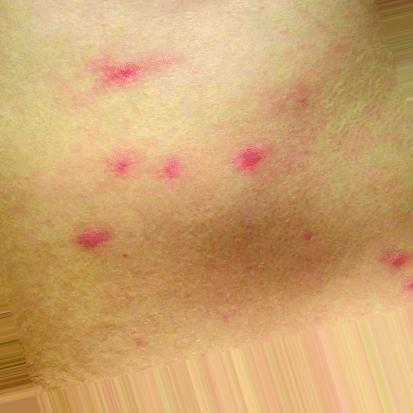Fleas: (87, 47, 180, 88), (231, 139, 268, 176), (71, 221, 112, 253), (155, 156, 189, 190), (106, 154, 133, 177)
